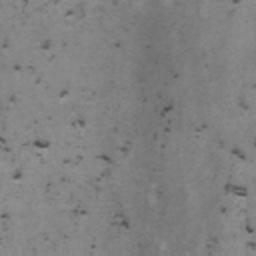Oxide scale of temperature system: (0, 0, 256, 252), (145, 42, 154, 50), (115, 41, 122, 50), (232, 0, 241, 5)
